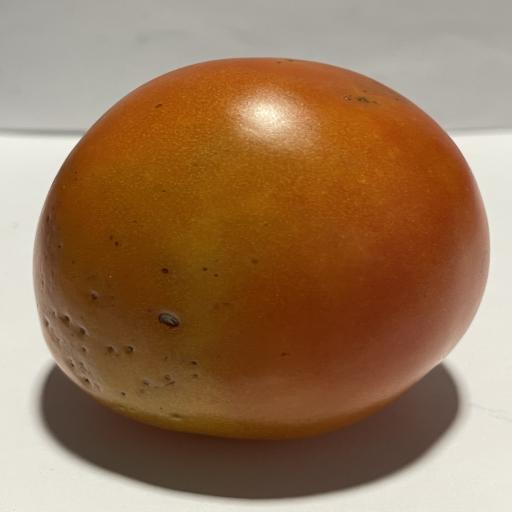ripe: (34, 58, 489, 439)
